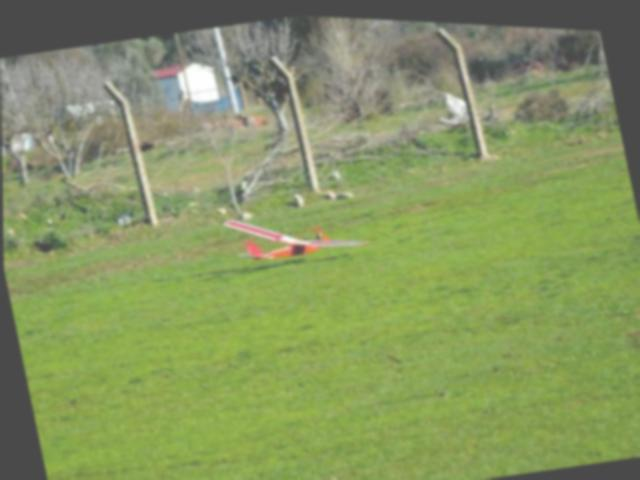iha: (207, 176, 385, 288)
